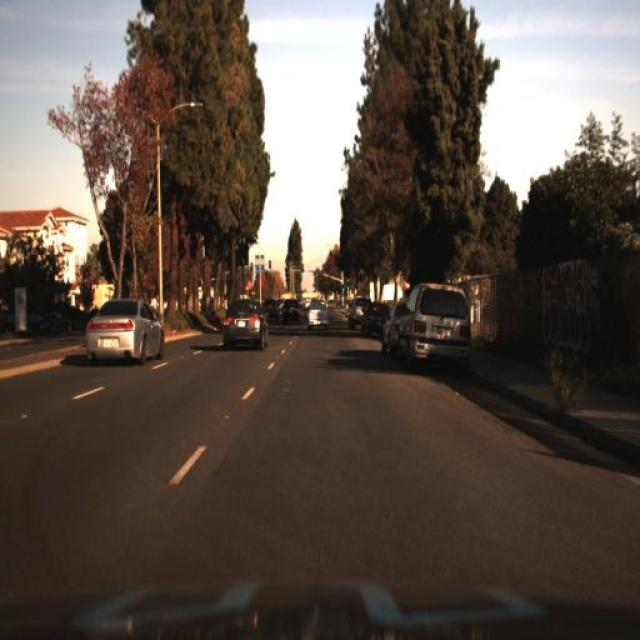car: (397, 280, 472, 376), (80, 293, 174, 366), (216, 299, 270, 353), (377, 299, 408, 356), (37, 307, 73, 337), (303, 298, 331, 334), (358, 300, 382, 340), (278, 300, 302, 336), (259, 294, 280, 324)
